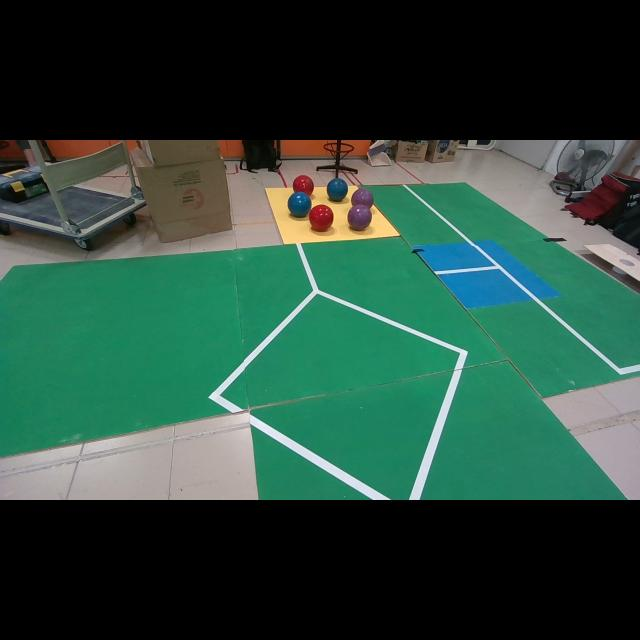B: (288, 191, 311, 217), (326, 178, 348, 201)
P: (348, 205, 372, 231), (351, 188, 374, 208)
R: (309, 205, 334, 231), (292, 175, 314, 196)
